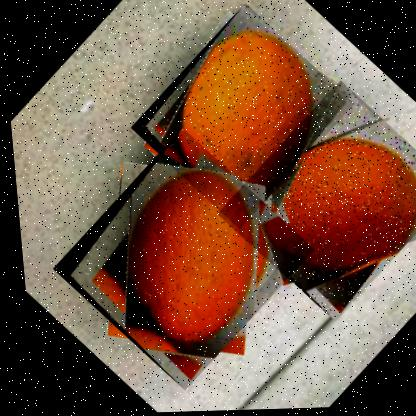orange: (36, 125, 318, 394), (117, 1, 360, 232), (202, 79, 415, 327)
